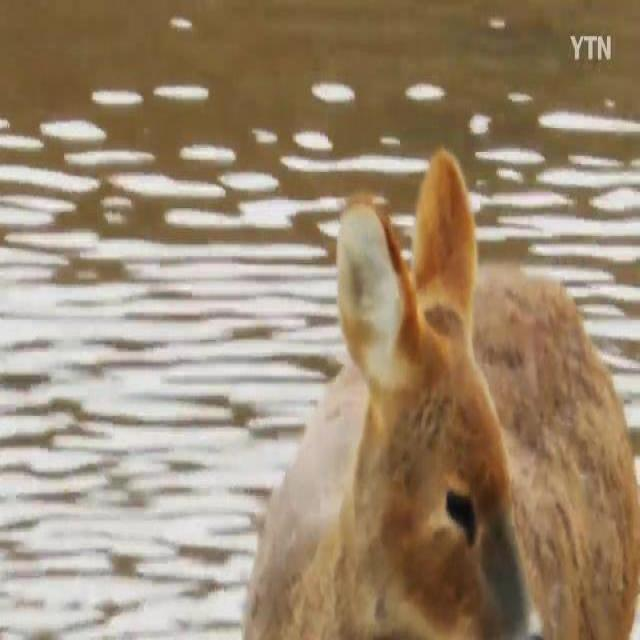deer: (243, 145, 640, 640)
